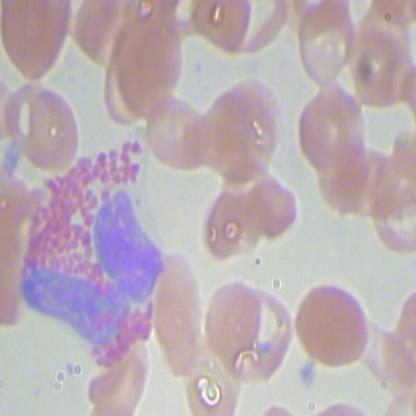Platelets: (294, 360, 320, 389)
RBC: (194, 74, 283, 183), (100, 11, 188, 110), (5, 66, 86, 171), (147, 250, 211, 380), (290, 84, 369, 179), (287, 281, 374, 367), (286, 1, 365, 83), (139, 93, 215, 172), (1, 1, 75, 81), (203, 276, 265, 359), (183, 333, 245, 415), (311, 134, 374, 210), (198, 185, 261, 260), (242, 166, 304, 242), (88, 341, 150, 415), (186, 1, 256, 56)
WBC: (15, 119, 166, 367)
